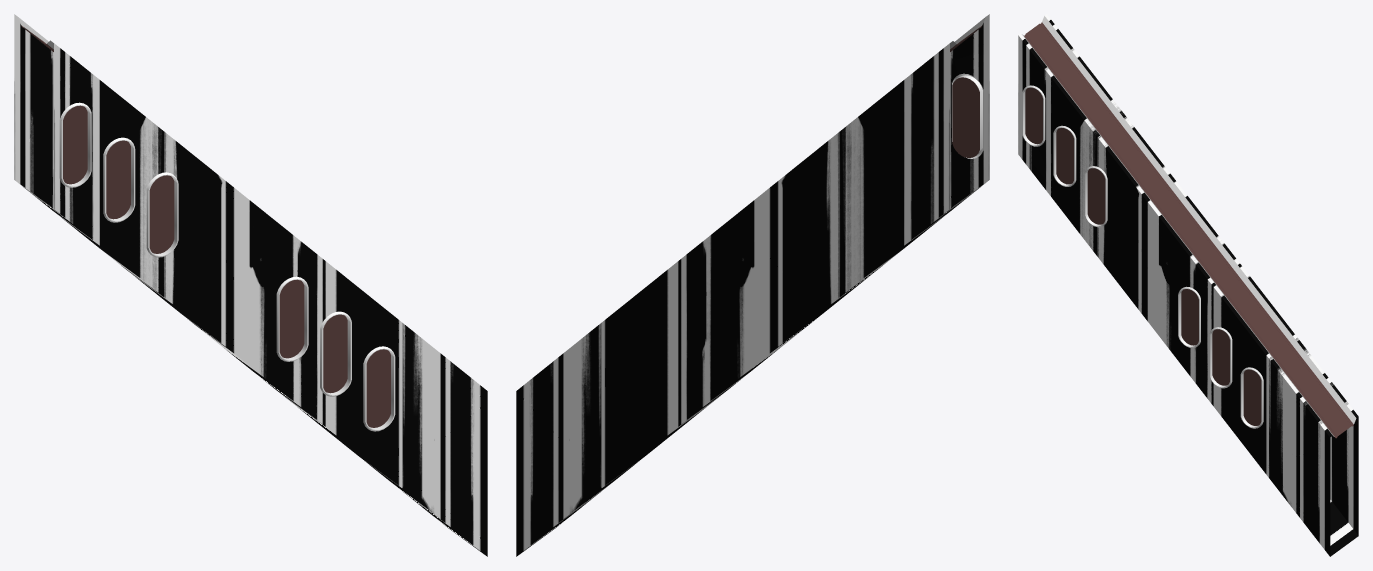
File: SM_ElevatorRail_flipped.fbx
3 views of the same model, side by side, from view 1: azimuth 30°, elevation 25°; view 2: azimuth 150°, elevation 25°; view 3: azimuth 330°, elevation 25° (orthographic). The views are drawn at different scales.
Parts seen in each view (by area): view 1: ough; view 2: ough; view 3: ough.
Part boxes in pixels (x1,y1,x2,y2): ough: (14, 14, 487, 556); ough: (516, 14, 989, 556); ough: (1018, 14, 1358, 556).
Bounding box in the file's own units: 100 × 137 × 16.33.
